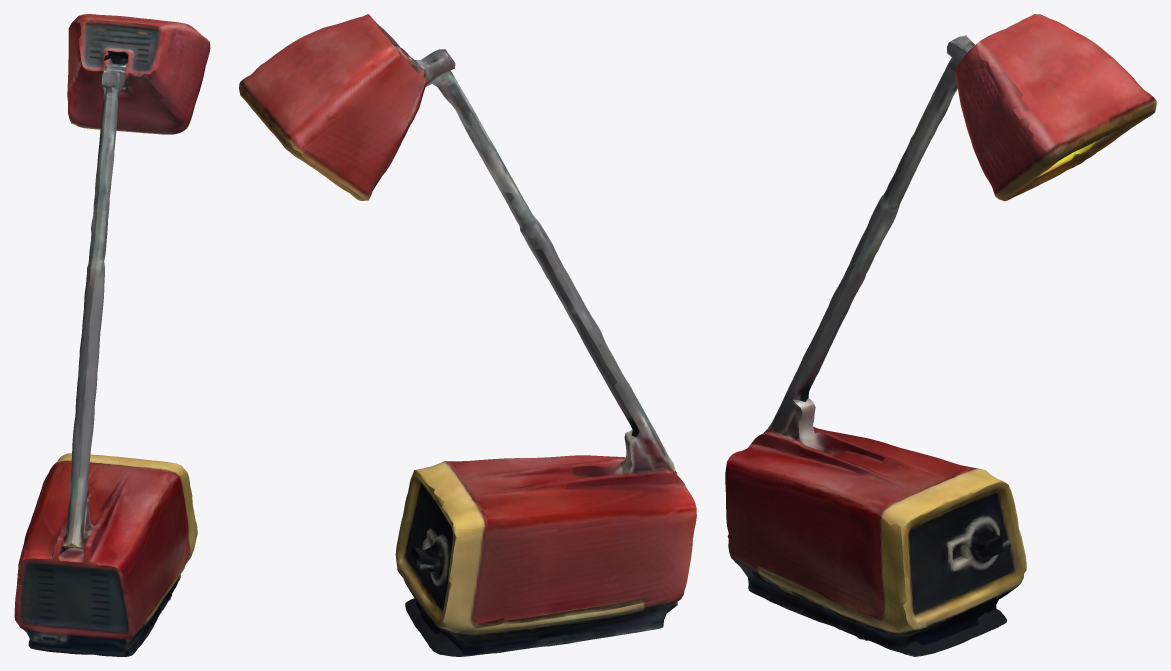
Rendered from lamp-2.glb.
3 views of the same model, side by side, from view 1: azimuth 30°, elevation 25°; view 2: azimuth 150°, elevation 25°; view 3: azimuth 270°, elevation 25° (orthographic). The views are drawn at different scales.
Visible parts, largest first — view 1: Object; view 2: Object; view 3: Object.
Boxes of the visible parts, x1,y1,x2,y2 form: Object: (14, 14, 210, 656); Object: (239, 14, 696, 656); Object: (725, 14, 1156, 656).
Size of the model in its own units: 0.3216 by 0.5595 by 0.3495.
1 material, 1 textured.
